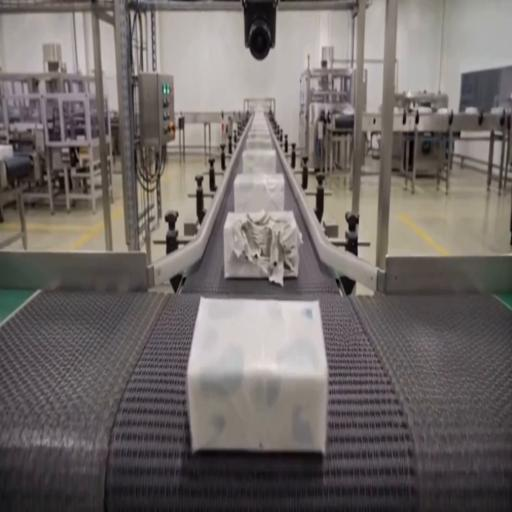defective: (223, 210, 301, 282)
good: (188, 296, 327, 456), (233, 172, 284, 214), (242, 109, 276, 154), (242, 149, 278, 178), (0, 142, 13, 162), (490, 106, 508, 114)
